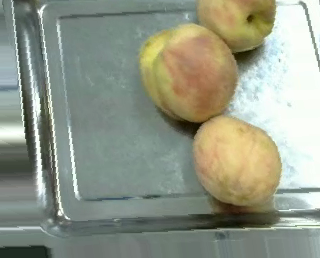Peach: (138, 24, 237, 121), (192, 113, 281, 207), (194, 0, 279, 51)
